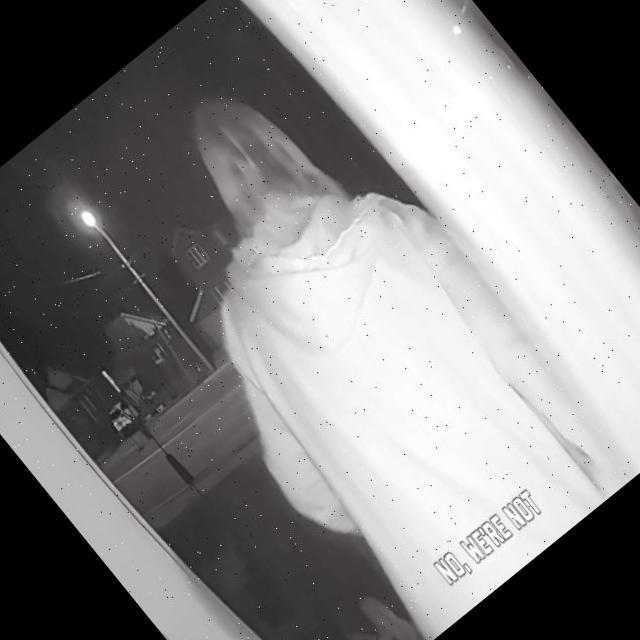person: (63, 29, 640, 640)
